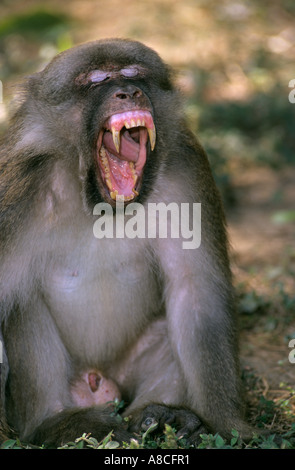monkey: (1, 23, 243, 360)
